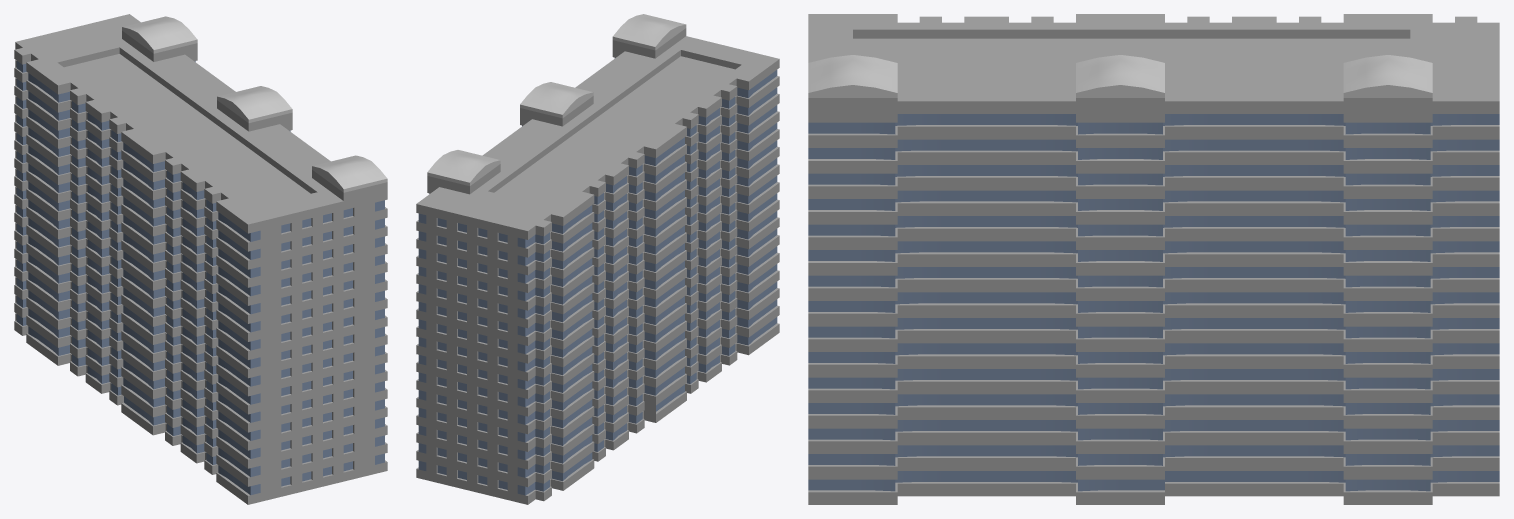
The model's file is SpecialBuilding8.fbx.
3 views of the same model, side by side, from view 1: azimuth 30°, elevation 25°; view 2: azimuth 150°, elevation 25°; view 3: azimuth 270°, elevation 25° (orthographic). The views are drawn at different scales.
Parts seen in each view (by area): view 1: pCube191; view 2: pCube191; view 3: pCube191.
Boxes of the visible parts, box(x1,y1,x2,y2) form: pCube191: box(14, 14, 387, 504); pCube191: box(416, 14, 779, 504); pCube191: box(808, 14, 1499, 504).
Bounding box in the file's own units: 9.06 × 18.66 × 27.61.
